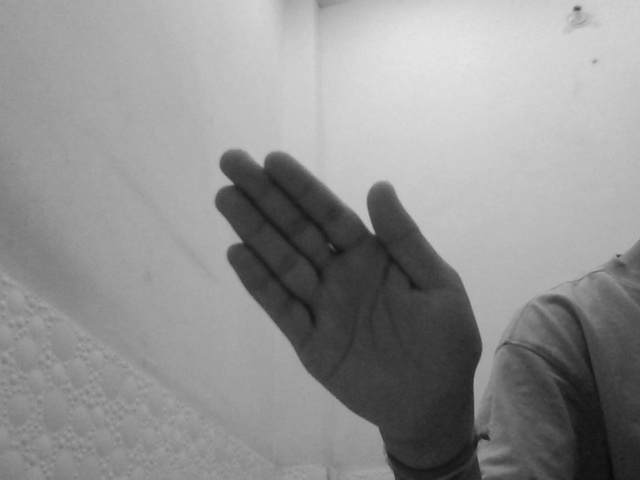Hello: (211, 146, 488, 448)
